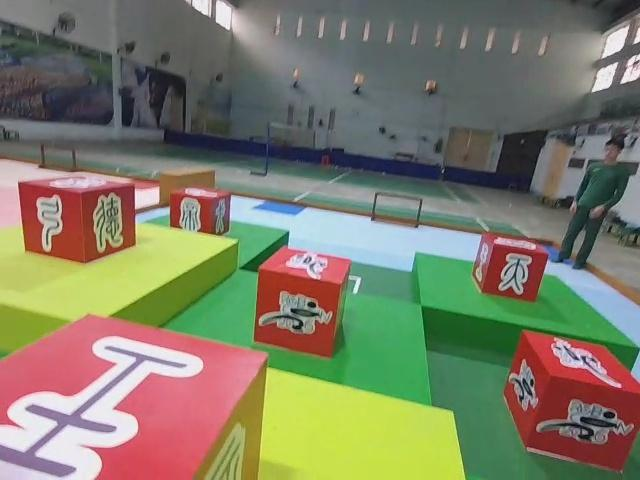R1: (506, 328, 640, 474), (255, 245, 351, 359)
R2 Fake: (0, 311, 267, 480), (17, 171, 135, 264), (473, 231, 549, 307), (168, 187, 231, 238)
